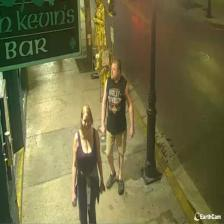person: (101, 55, 134, 195), (71, 104, 105, 224)
